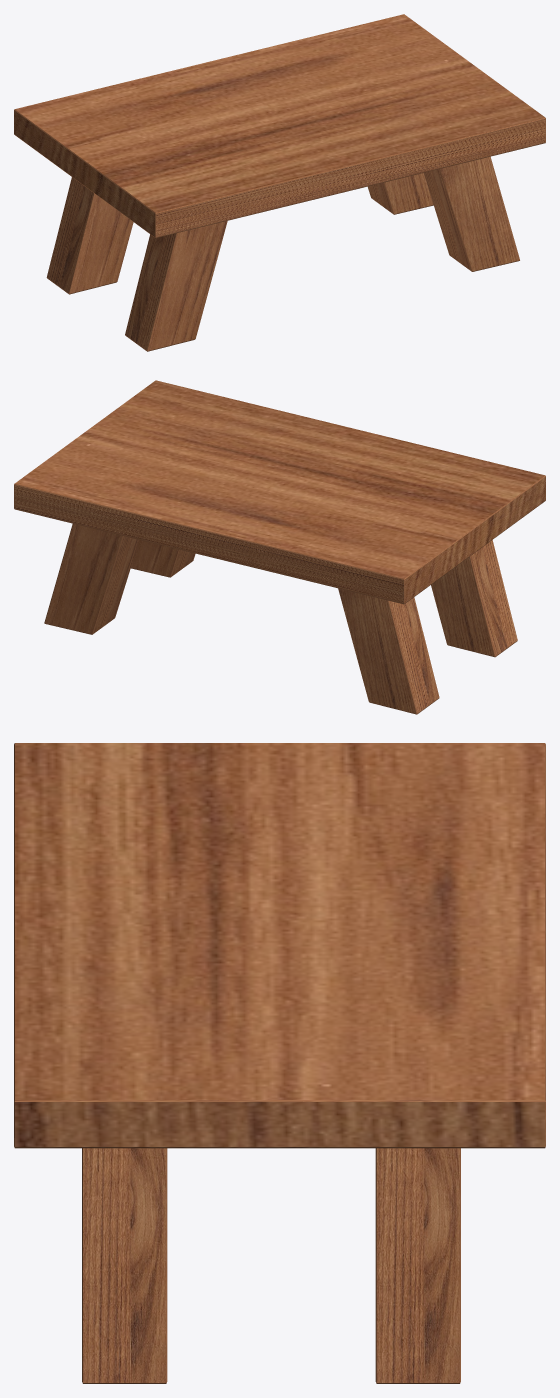
File: table.obj
The picture shows the model from 3 angles, top to bottom: view 1: azimuth 30°, elevation 25°; view 2: azimuth 150°, elevation 25°; view 3: azimuth 270°, elevation 25°; orthographic projection. The views are drawn at different scales.
Visible parts, largest first — view 1: Cube.020_Cube.009; view 2: Cube.020_Cube.009; view 3: Cube.020_Cube.009.
Part boxes in pixels (x1,y1,x2,y2): Cube.020_Cube.009: (14,14,545,351); Cube.020_Cube.009: (14,380,545,714); Cube.020_Cube.009: (14,743,545,1383).
Bounding box in the file's own units: 6.09 × 2.31 × 3.82.
Materials: 1 (1 with a texture image).
